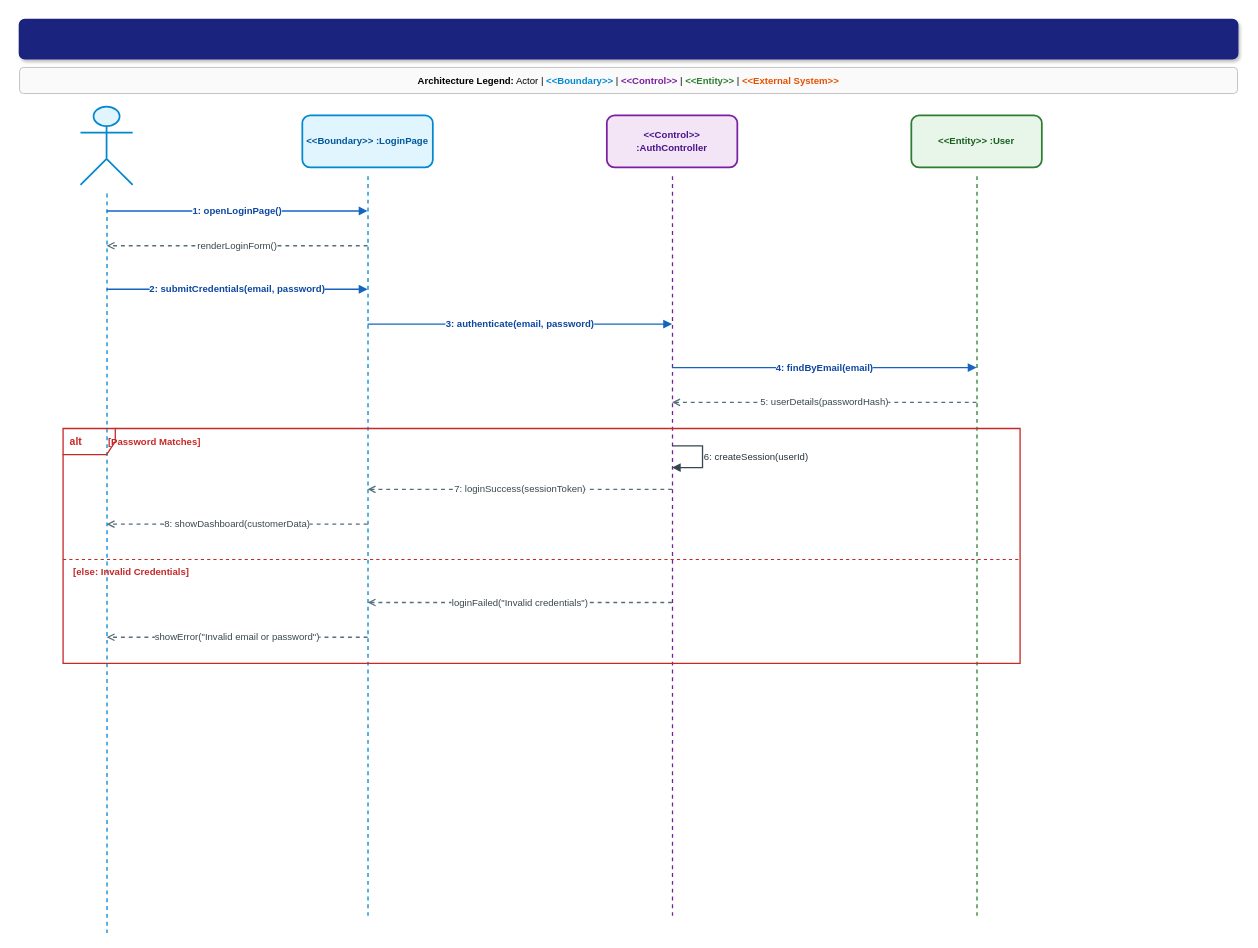
The diagram is 1258 pixels wide and 948 high, and some of its shapes have lost their labels. Here are the shapes that lost their labels. From the top down, the centre of each, then its label:
At (x=629, y=40): "ONLINE FOOD ORDERING SYSTEM — CUSTOMER LOGIN SEQUENCE DIAGRAM".
At (x=106, y=145): "Customer".
